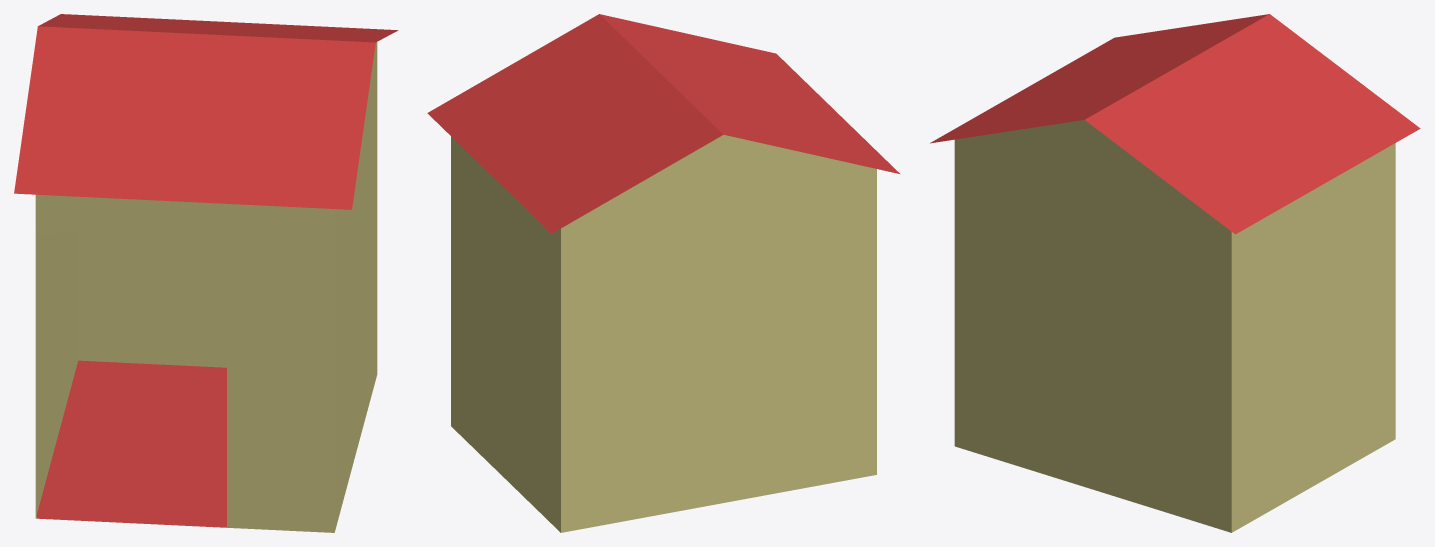
3 views of the same model, side by side, from view 1: azimuth 30°, elevation 25°; view 2: azimuth 150°, elevation 25°; view 3: azimuth 270°, elevation 25° (orthographic). The views are drawn at different scales.
Parts seen in each view (by area): view 1: group_5, group_3, group_6, group_4; view 2: group_5, group_3, group_4; view 3: group_5, group_3, group_4.
Boxes of the visible parts, <box> form: group_5: <box>35,42,377,532</box>; group_3: <box>16,14,397,209</box>; group_6: <box>37,360,226,527</box>; group_4: <box>14,18,375,197</box>; group_5: <box>451,135,876,532</box>; group_3: <box>427,14,899,233</box>; group_4: <box>496,14,900,207</box>; group_5: <box>954,120,1395,532</box>; group_3: <box>930,14,1420,234</box>; group_4: <box>1005,14,1369,205</box>.
Bounding box in the file's own units: 13.2 × 13.6 × 11.5.
